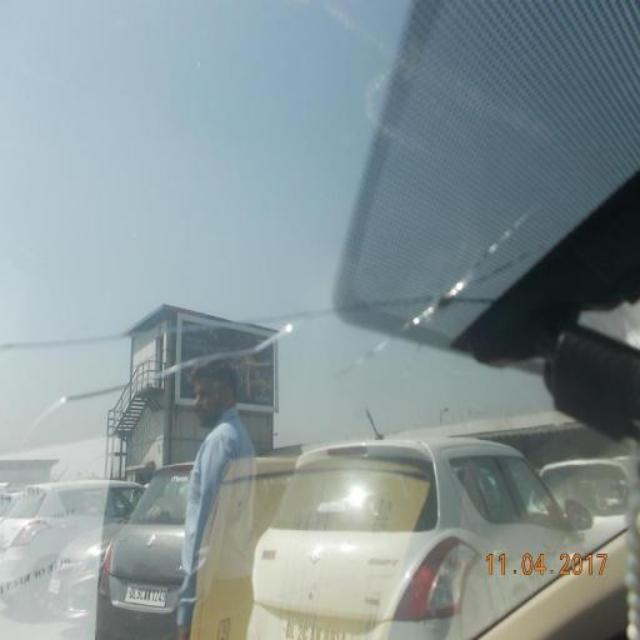glass shatter: (427, 279, 482, 324)
